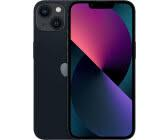Smartphone: (69, 1, 133, 137), (35, 3, 71, 139)
